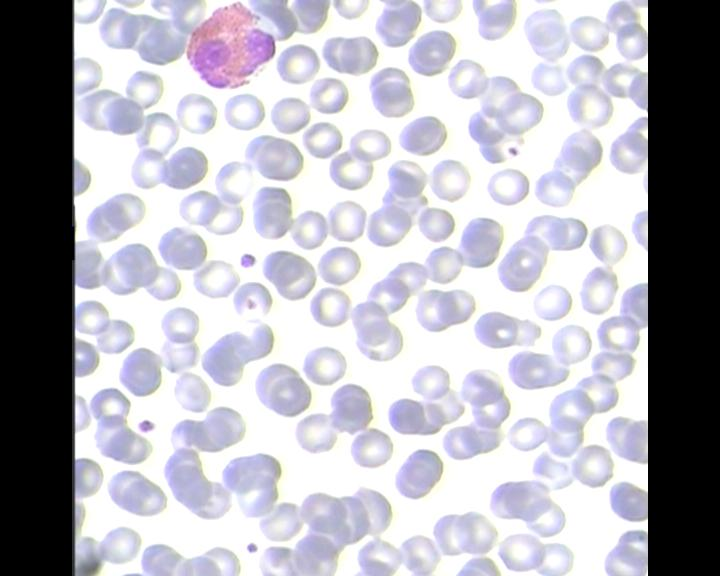eosi: (183, 0, 279, 91)
